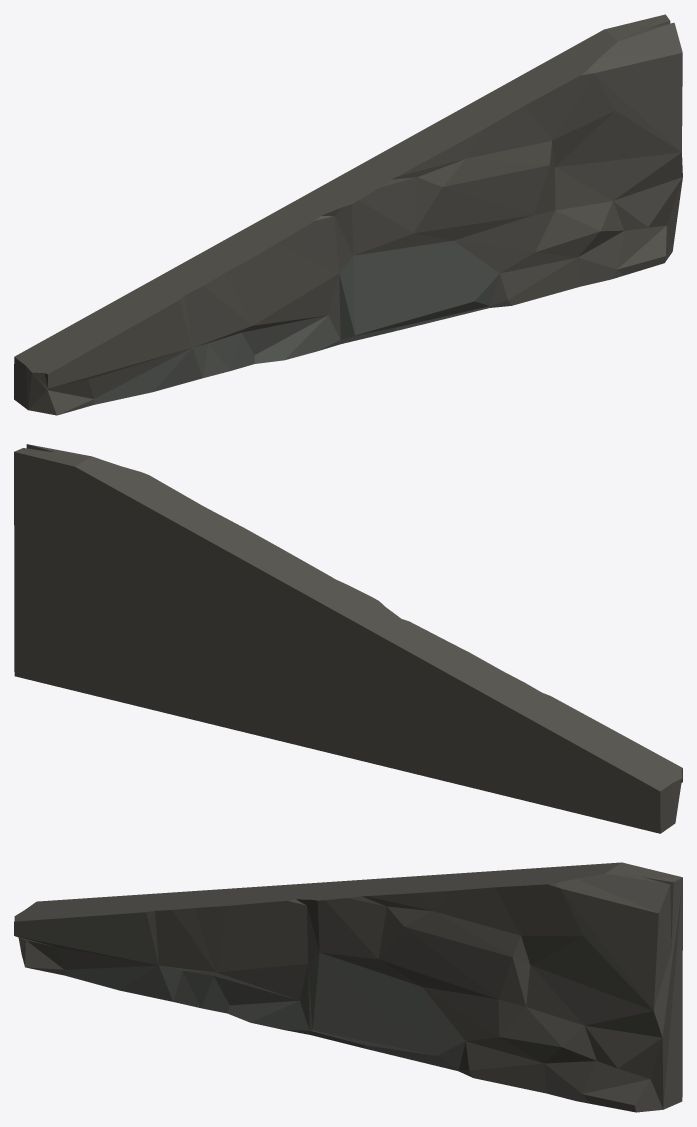
The model's file is MDungeons_Walls_Base_LowerThirdSloped.FBX.
3 views of the same model, one above another, from view 1: azimuth 30°, elevation 25°; view 2: azimuth 150°, elevation 25°; view 3: azimuth 330°, elevation 25° (orthographic).
Visible parts, largest first — view 1: MDungeons_Walls_Base_LowerThirdSloped_LOD0; view 2: MDungeons_Walls_Base_LowerThirdSloped_LOD0; view 3: MDungeons_Walls_Base_LowerThirdSloped_LOD0.
Part boxes in pixels (<box>): MDungeons_Walls_Base_LowerThirdSloped_LOD0: <box>14,14,682,415</box>; MDungeons_Walls_Base_LowerThirdSloped_LOD0: <box>14,444,682,833</box>; MDungeons_Walls_Base_LowerThirdSloped_LOD0: <box>14,862,682,1112</box>.
Size of what is drawn, in the model's own units: 6 by 1.99 by 0.4979.
